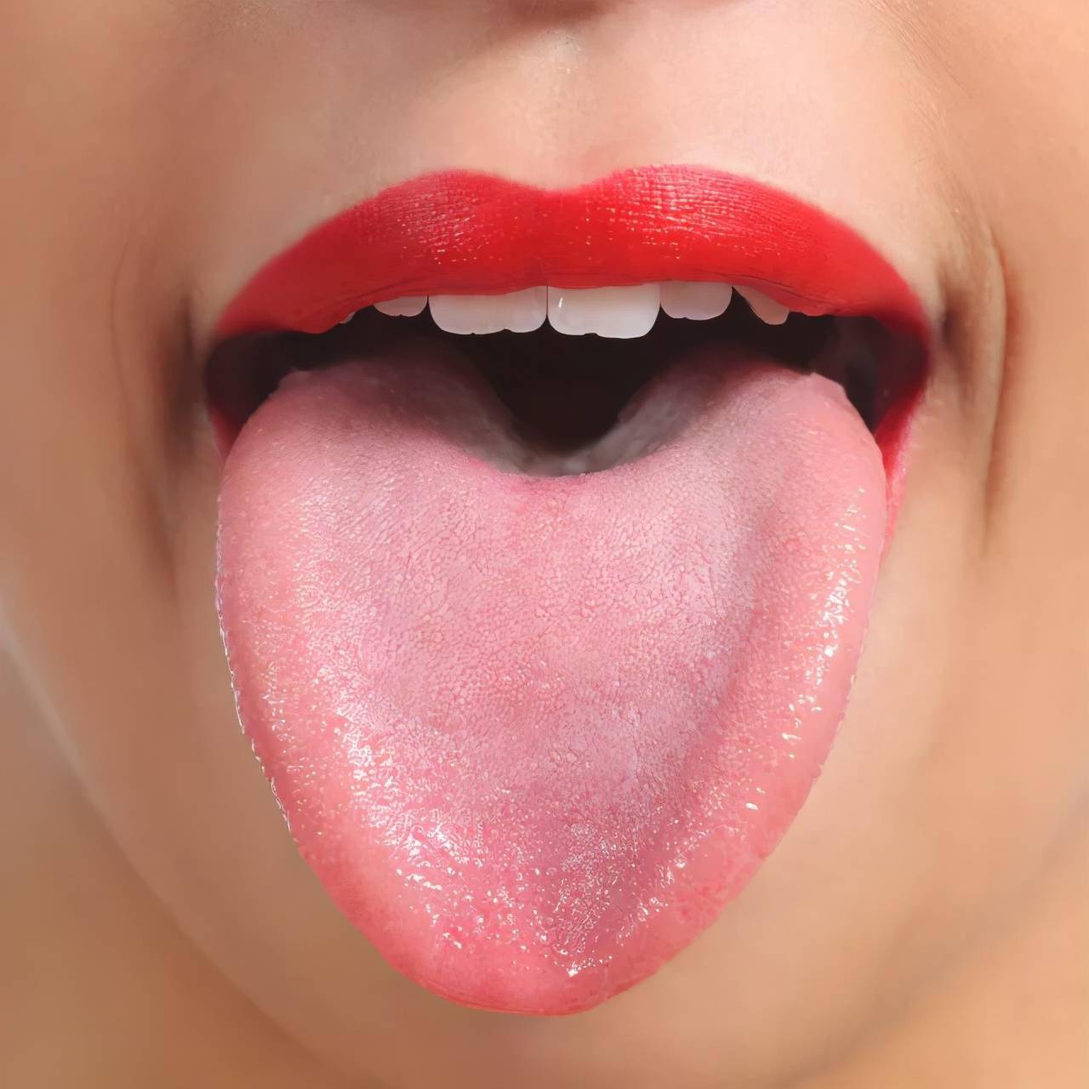hongshe: (218, 362, 886, 1013)
shenquao: (391, 362, 738, 510)
